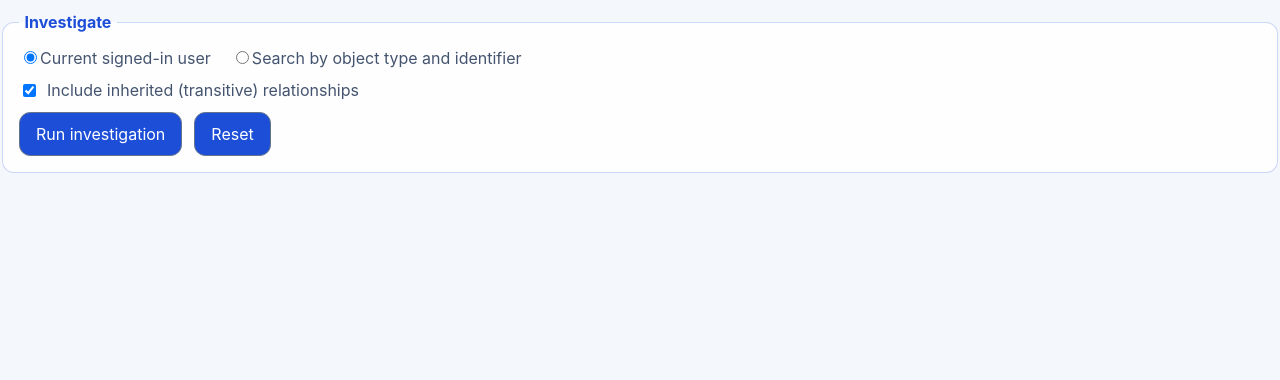
QueryPanel › debounces typeahead and selects a suggestion with the keyboard
The width and height of the screenshot is (1280, 380).
Click the radio button labelled "Search by object type and identifier" at (242, 58), box [236,51,249,64]
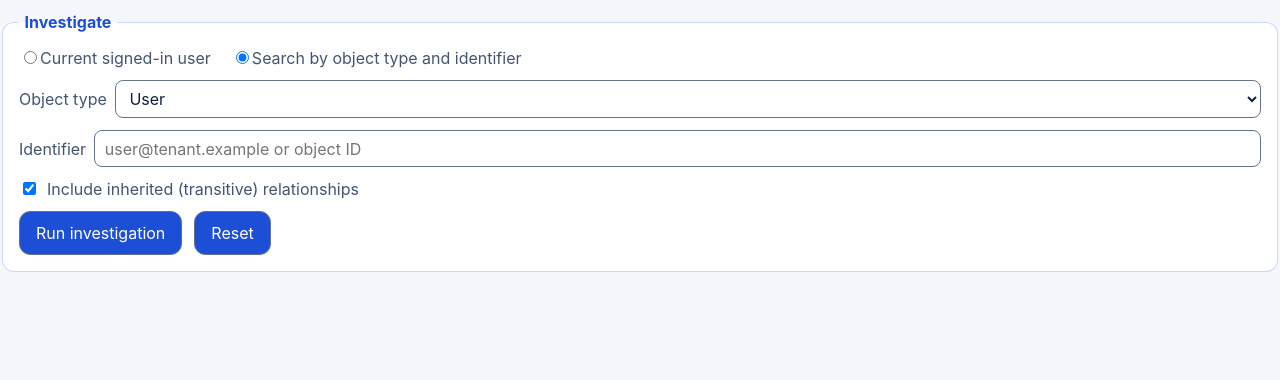
Select "Group" in the dropdown labelled "Object type" at (688, 99), box [115,80,1261,118]
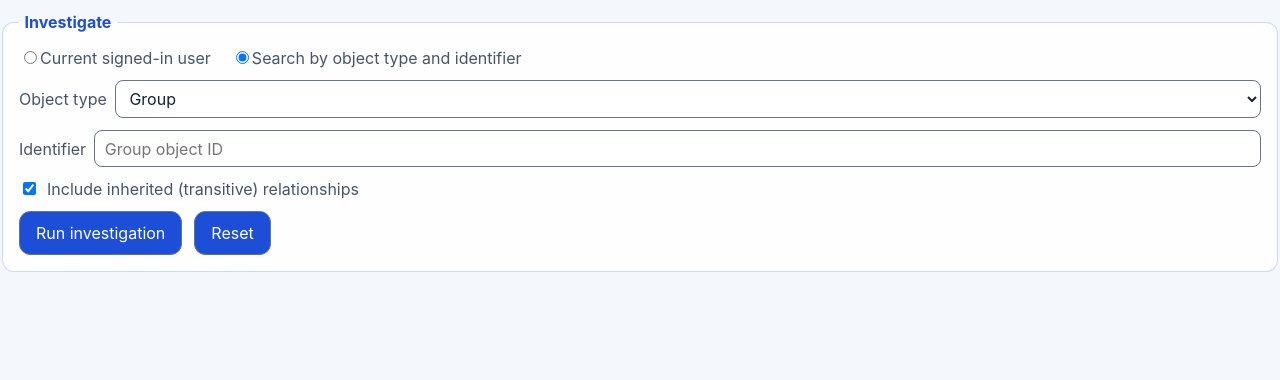
Type "engin" into the dropdown labelled "Identifier" at (678, 149), box [94,130,1261,167]
Wait 250 ms
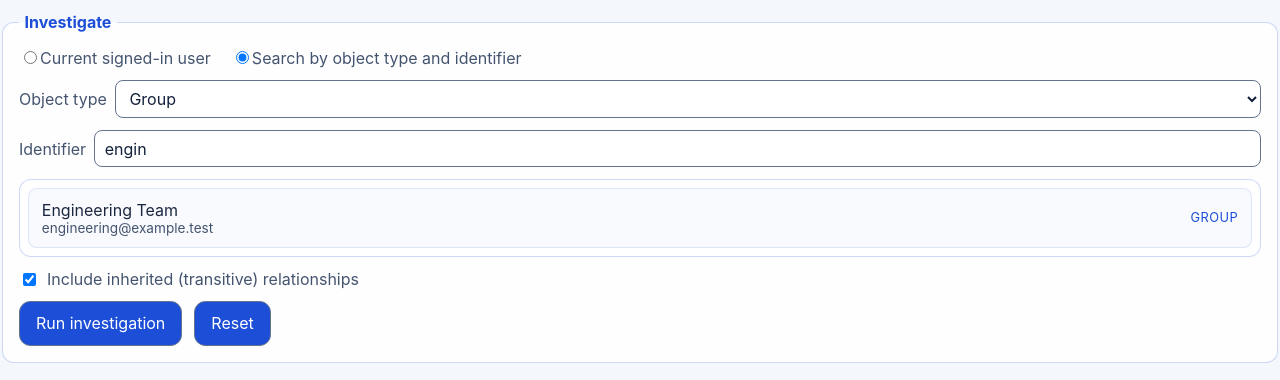
Check: the option "Engineering Team engineering@example.test Group" is shown, box [28,188,1252,248]
Press ArrowDown in the dropdown labelled "Identifier", box [94,130,1261,167]
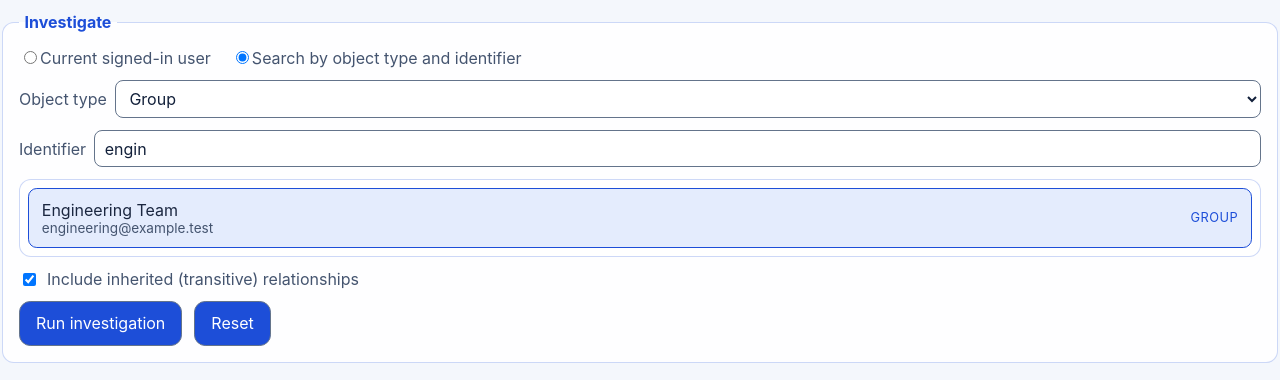
Press Enter in the dropdown labelled "Identifier", box [94,130,1261,167]
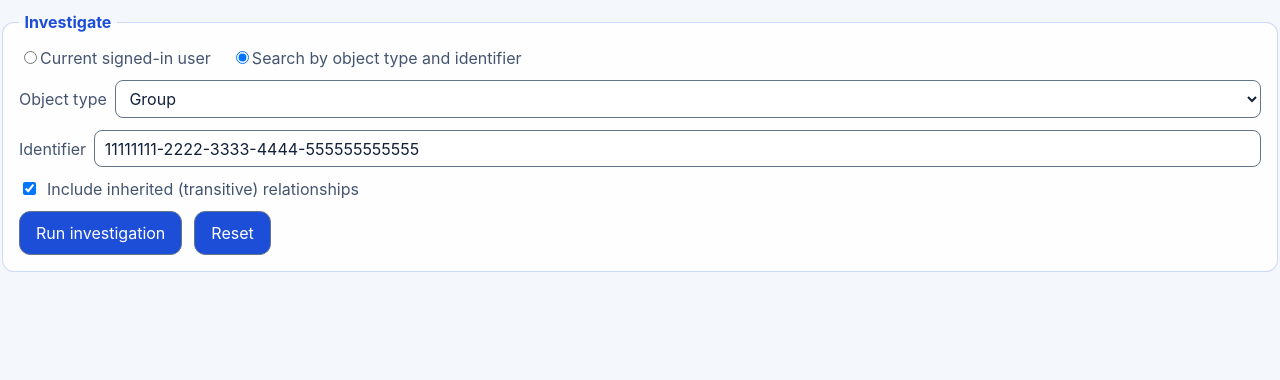
Check: the dropdown labelled "Identifier" holds "11111111-2222-3333-4444-555555555555", box [94,130,1261,167]
Check: the list is gone
